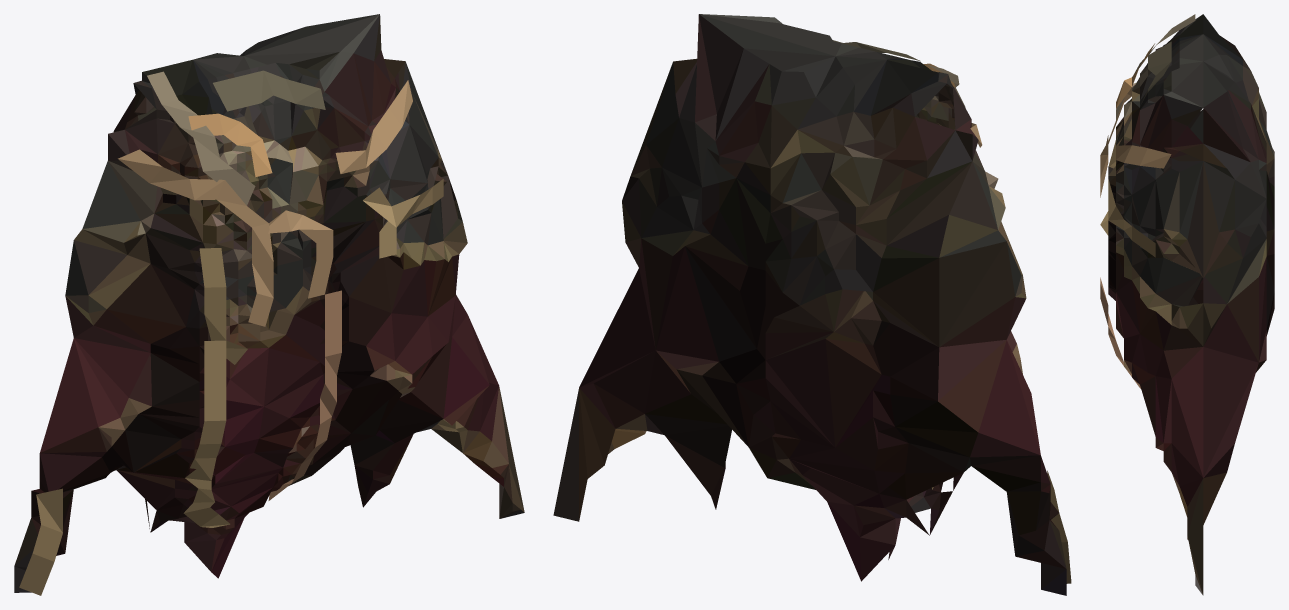
Rendered from B05_3_crimson_knight_tassets.obj.
The picture shows the model from 3 angles, left to right: view 1: azimuth 30°, elevation 25°; view 2: azimuth 150°, elevation 25°; view 3: azimuth 270°, elevation 25°; orthographic projection. The views are drawn at different scales.
Parts seen in each view (by area): view 1: B05_3_crimson_knight_tassets; view 2: B05_3_crimson_knight_tassets; view 3: B05_3_crimson_knight_tassets.
Boxes of the visible parts, x1,y1,x2,y2 form: B05_3_crimson_knight_tassets: (14, 14, 524, 595); B05_3_crimson_knight_tassets: (553, 14, 1071, 595); B05_3_crimson_knight_tassets: (1100, 14, 1274, 595).
Bounding box in the file's own units: 60 × 60 × 22.
